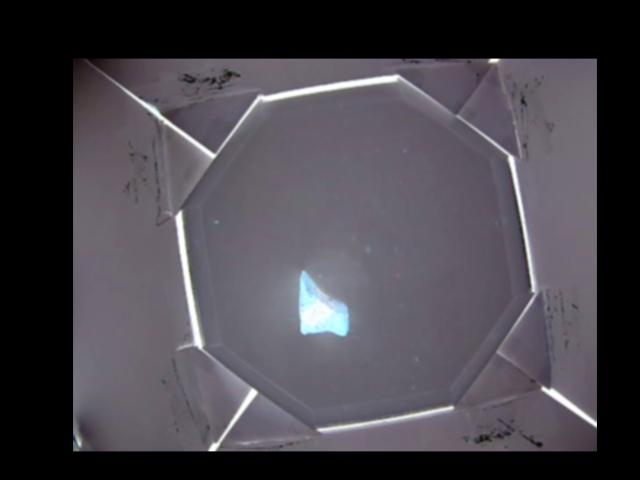Brisk: (299, 272, 349, 338)
